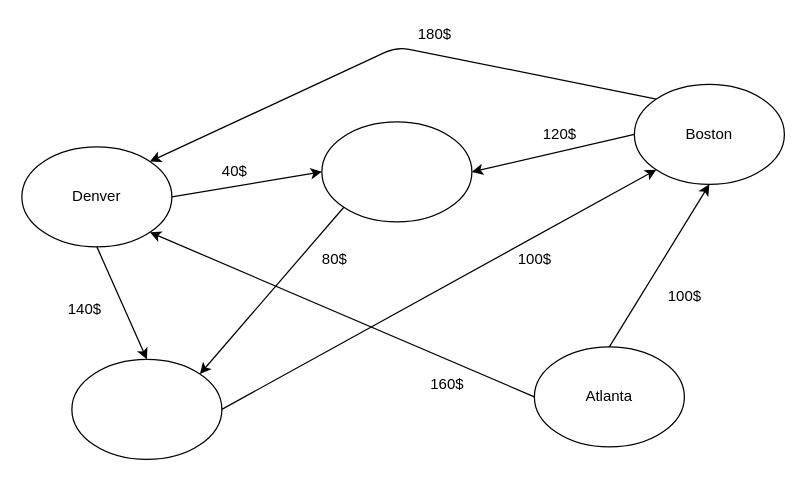
Image size: 806x481. Some labels were removed from this diagram. Here are the shapes that lost their labels. From the top down, the box of each, then its label:
(321, 121, 472, 222): Chicago
(71, 358, 222, 459): El Paso
